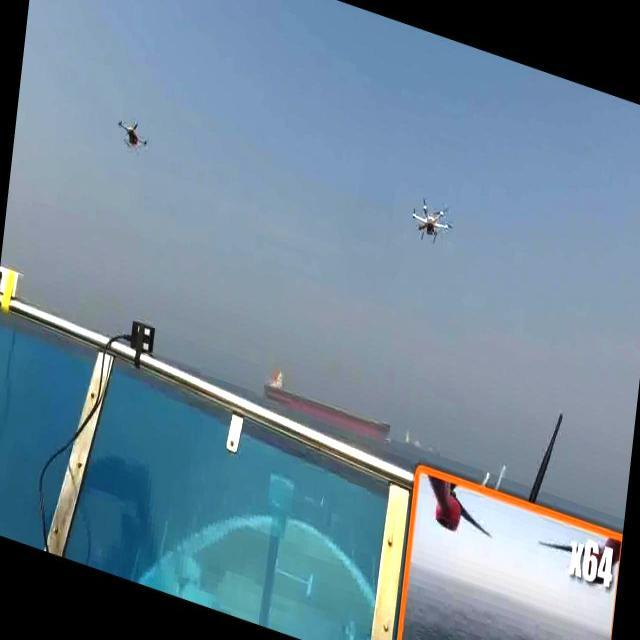drone: (406, 185, 456, 254), (108, 102, 150, 158)
